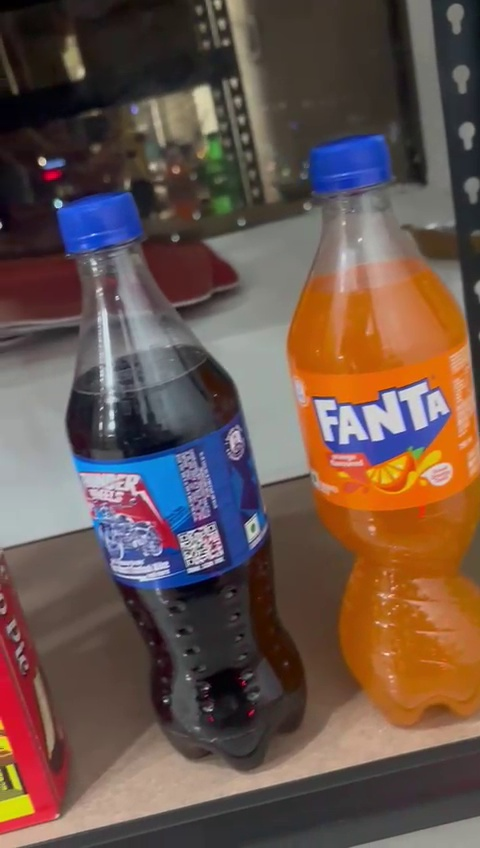Fanta: (275, 125, 480, 729)
Thums-up: (55, 193, 308, 781)
